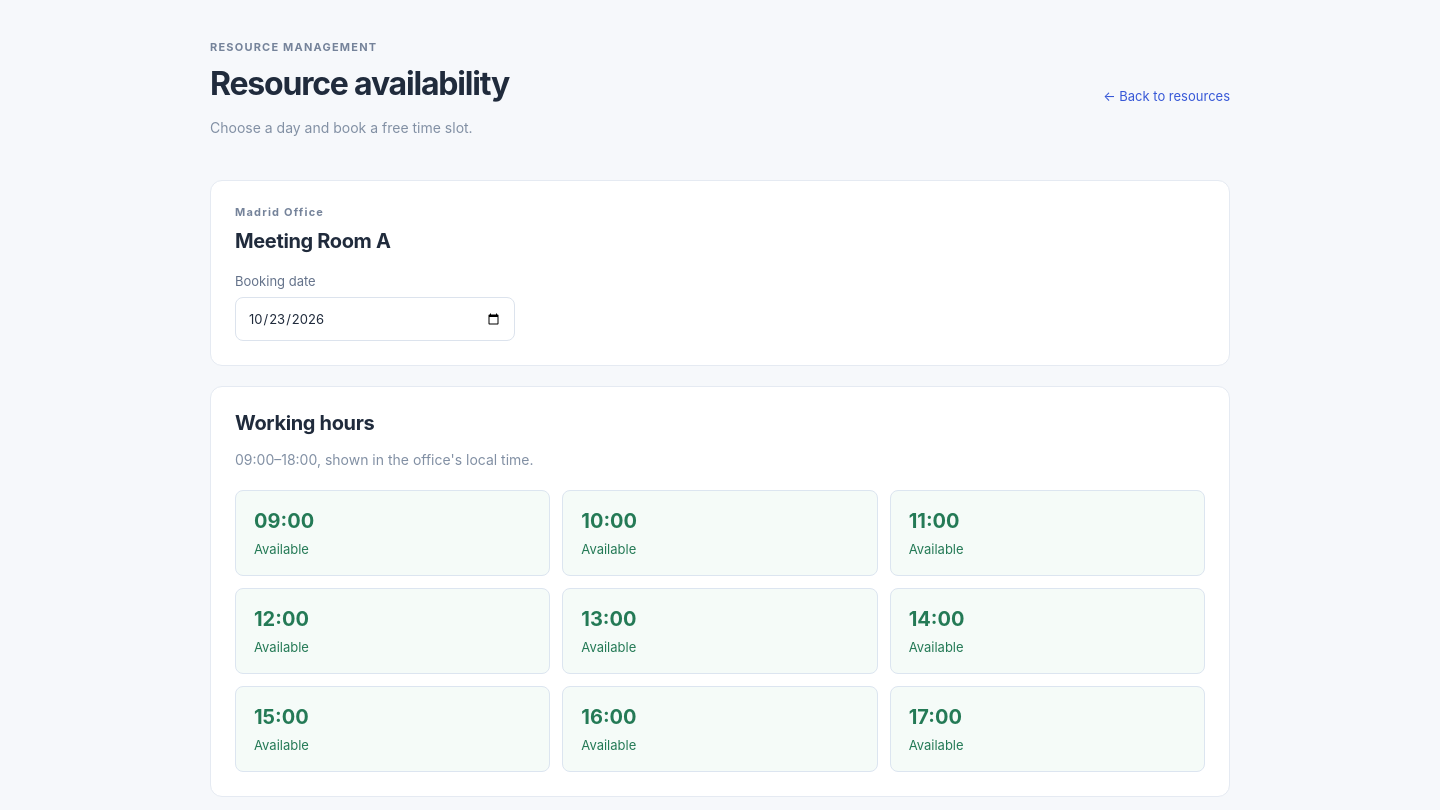
Test case: AvailabilityView › shows an error popup when the API rejects a booking
Click the button with class "slot" showing "09:00 Available". click: (284, 521)
box: [235,490,550,576]
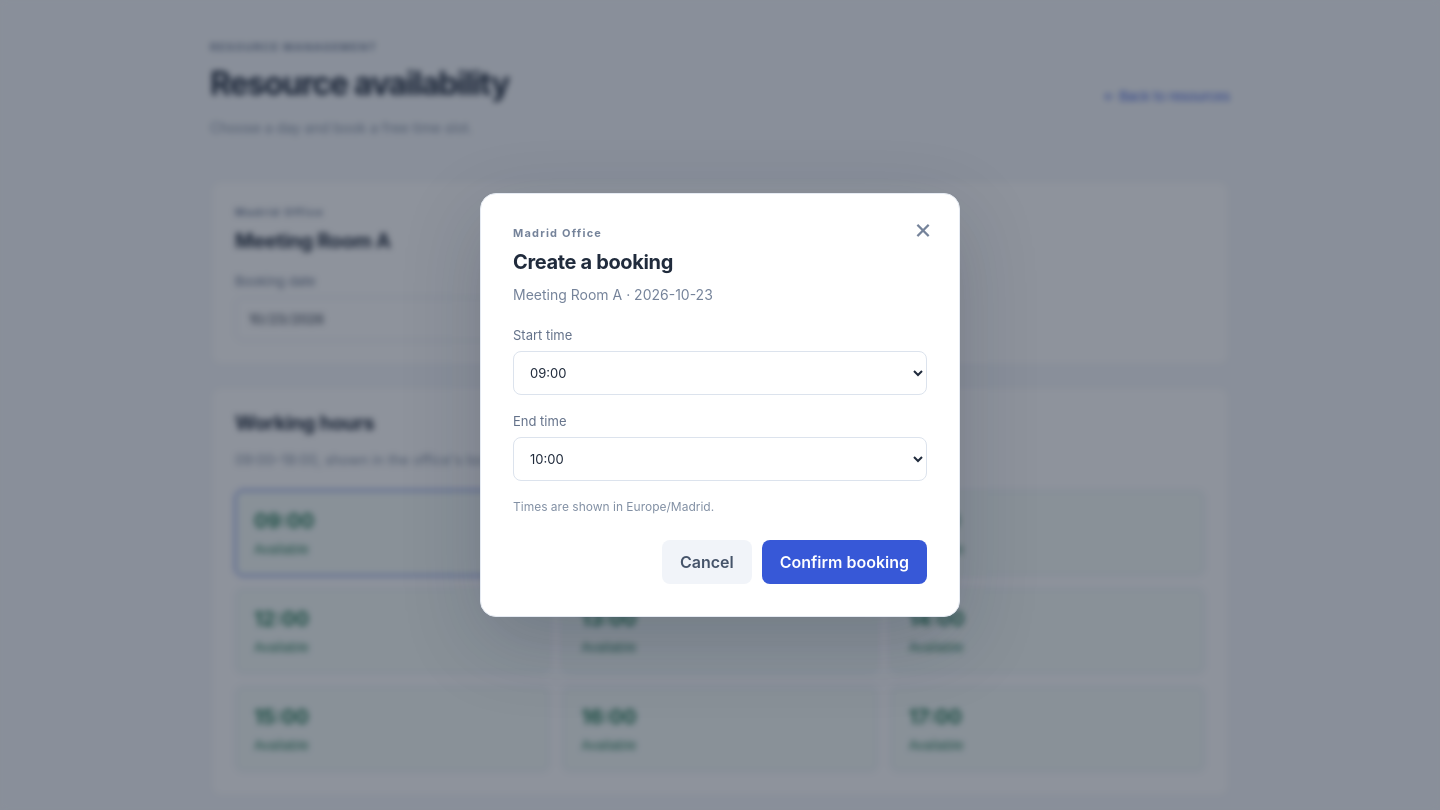
Check: the button "Confirm booking" is shown
Click the button "Confirm booking". click: (844, 562)
box: [762,540,927,584]
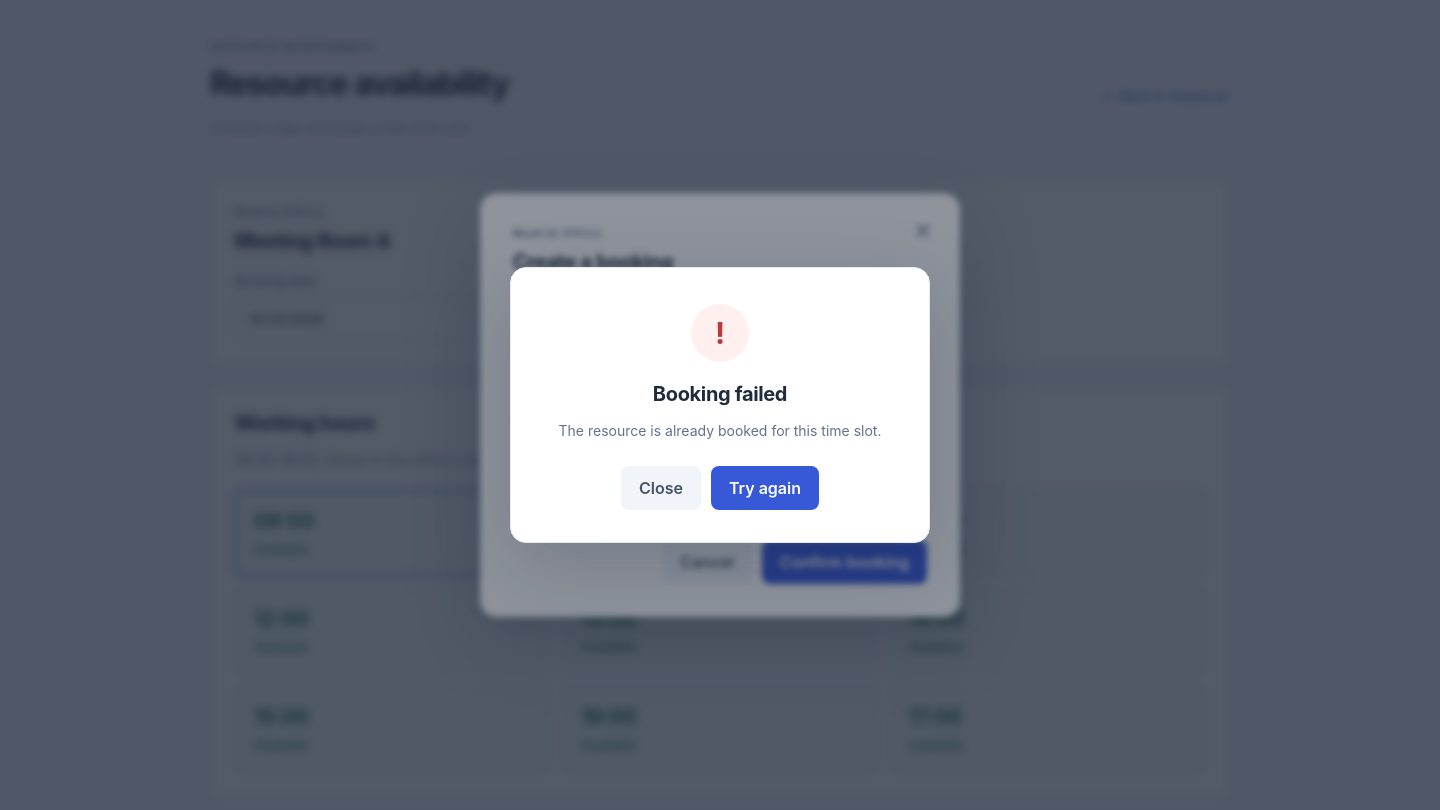
Check: the text "Booking failed" is shown, box [653,382,787,406]
Check: the text "The resource is already booked for this time slot." is shown, box [543,420,897,442]
